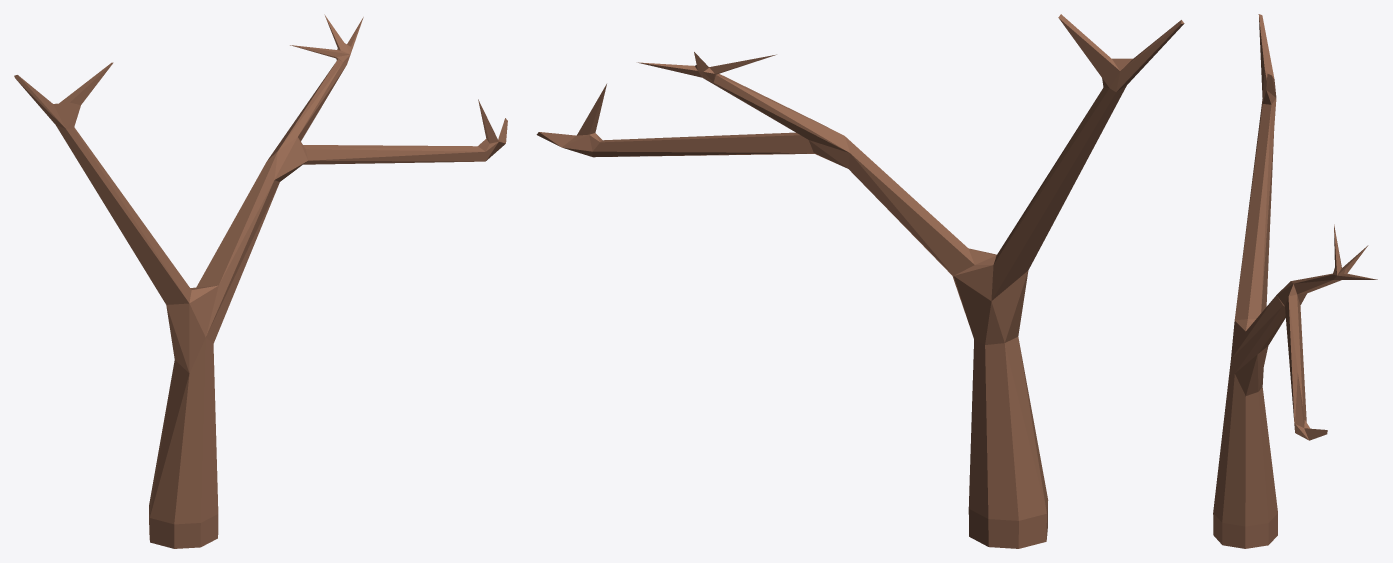
Rendered from arbolQuemado3.fbx.
3 views of the same model, side by side, from view 1: azimuth 30°, elevation 25°; view 2: azimuth 150°, elevation 25°; view 3: azimuth 270°, elevation 25° (orthographic). The views are drawn at different scales.
Visible parts, largest first — view 1: Cube; view 2: Cube; view 3: Cube.
Part boxes in pixels (x1,y1,x2,y2): Cube: (14, 14, 507, 548); Cube: (536, 14, 1184, 548); Cube: (1213, 14, 1377, 548).
Bounding box in the file's own units: 681 × 605 × 201.
